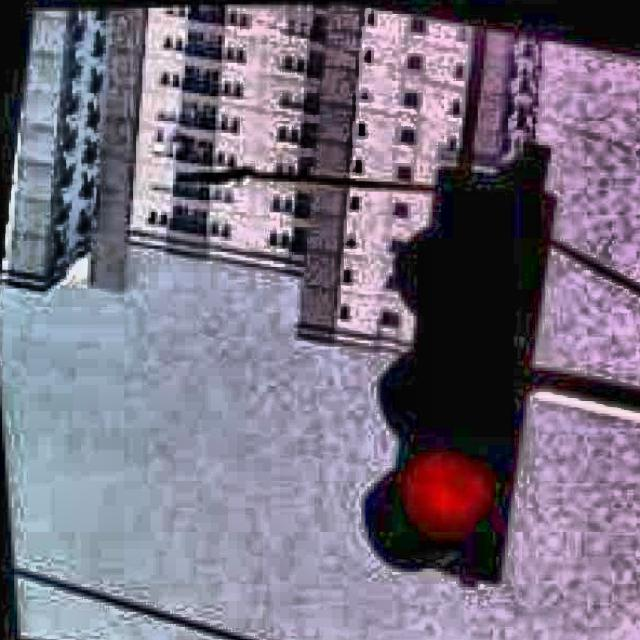red: (368, 169, 544, 577)
